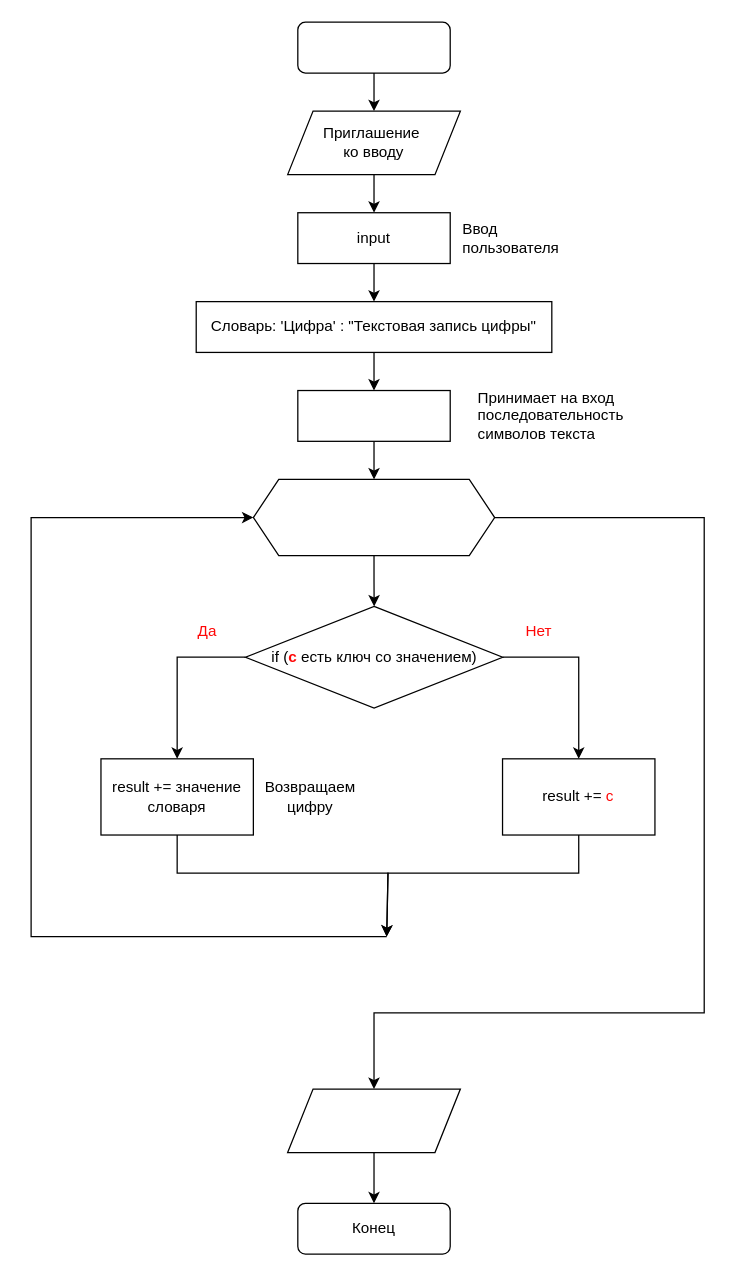
The diagram is 737 pixels wide and 1276 high, and some of its shapes have lost their labels. Each missing label, with the box of its shape:
foreach char c in input: (252, 478, 495, 556)
Вывод result: (286, 1088, 460, 1153)
Инициализация result: (297, 389, 450, 441)
Начало: (297, 21, 450, 73)
